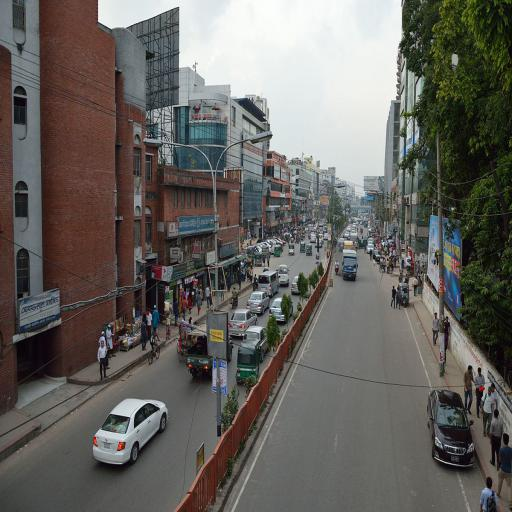bicycle: (147, 338, 164, 368)
bus: (350, 233, 359, 242)
car: (92, 396, 169, 469), (427, 387, 476, 468), (270, 297, 295, 323), (229, 309, 258, 330), (246, 291, 270, 309), (250, 325, 269, 338), (291, 274, 301, 297), (376, 248, 382, 263), (316, 238, 324, 249), (366, 243, 374, 254), (310, 234, 316, 243), (324, 233, 329, 242), (338, 237, 345, 242), (347, 226, 352, 232)
minivan: (281, 264, 291, 288)
motorbike: (231, 291, 242, 310), (334, 263, 341, 276), (252, 282, 258, 290)
pickup: (342, 250, 358, 282), (345, 241, 354, 250), (364, 220, 369, 228)
rickshaw: (179, 327, 186, 363)
suv: (185, 332, 208, 394)
three wheelers (CNG): (236, 337, 264, 387), (399, 281, 411, 309), (254, 252, 264, 268), (274, 244, 283, 259), (288, 243, 296, 257), (300, 240, 307, 254), (307, 243, 314, 256), (360, 238, 366, 250)
van: (258, 271, 280, 292)
